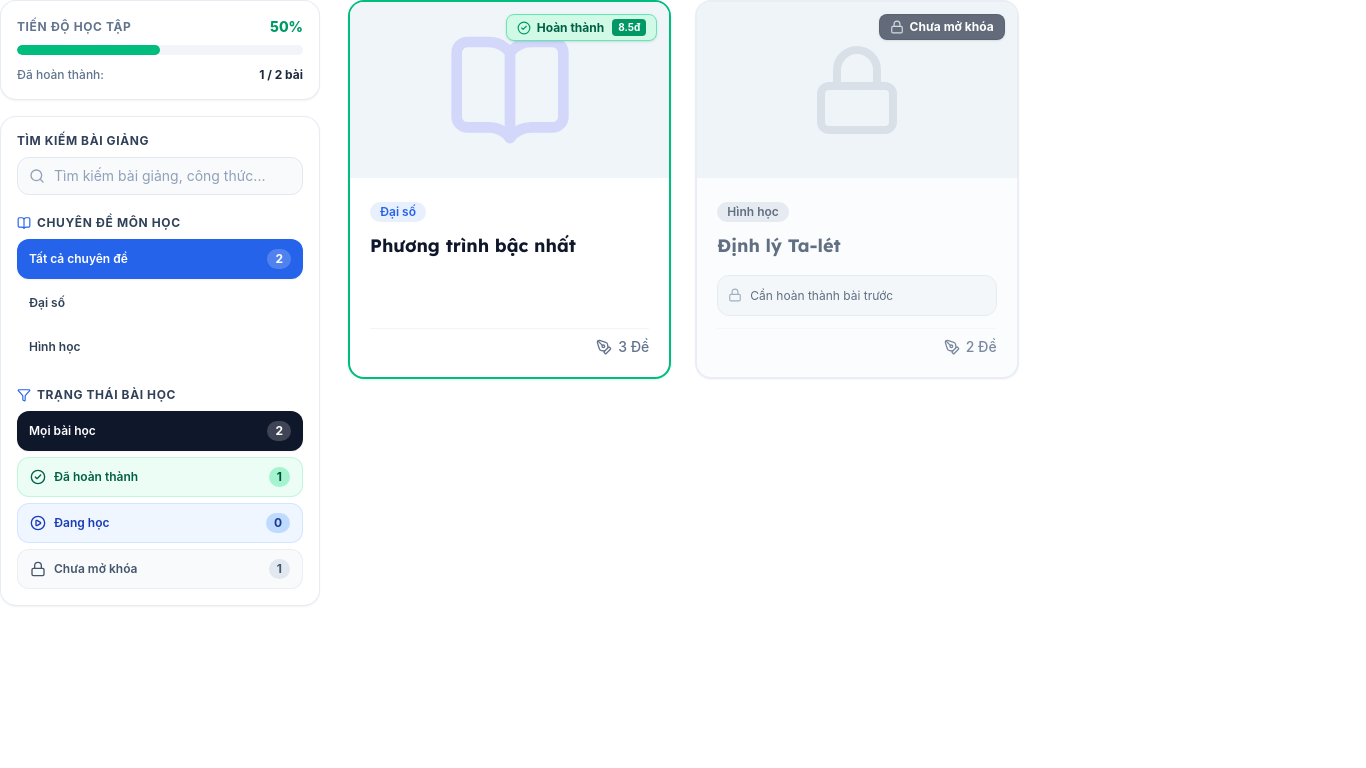
Scenario: GradeLectureList › filters lectures by status
Click the button "Đã hoàn thành 1".
click(96, 476)  # box [17,457,303,497]
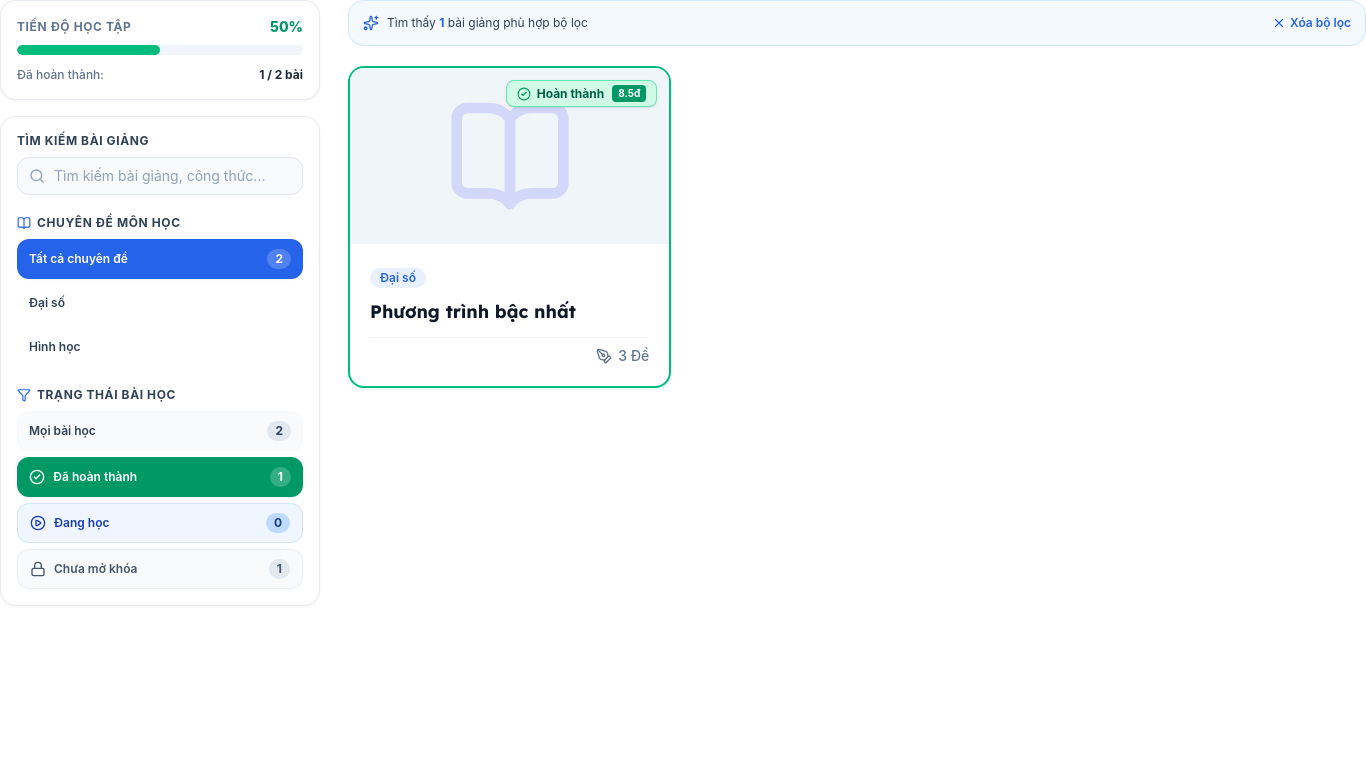
Expected: the heading "Phương trình bậc nhất" is shown, [370,300,576,323]
Expected: the heading "Định lý Ta-lét" is gone
